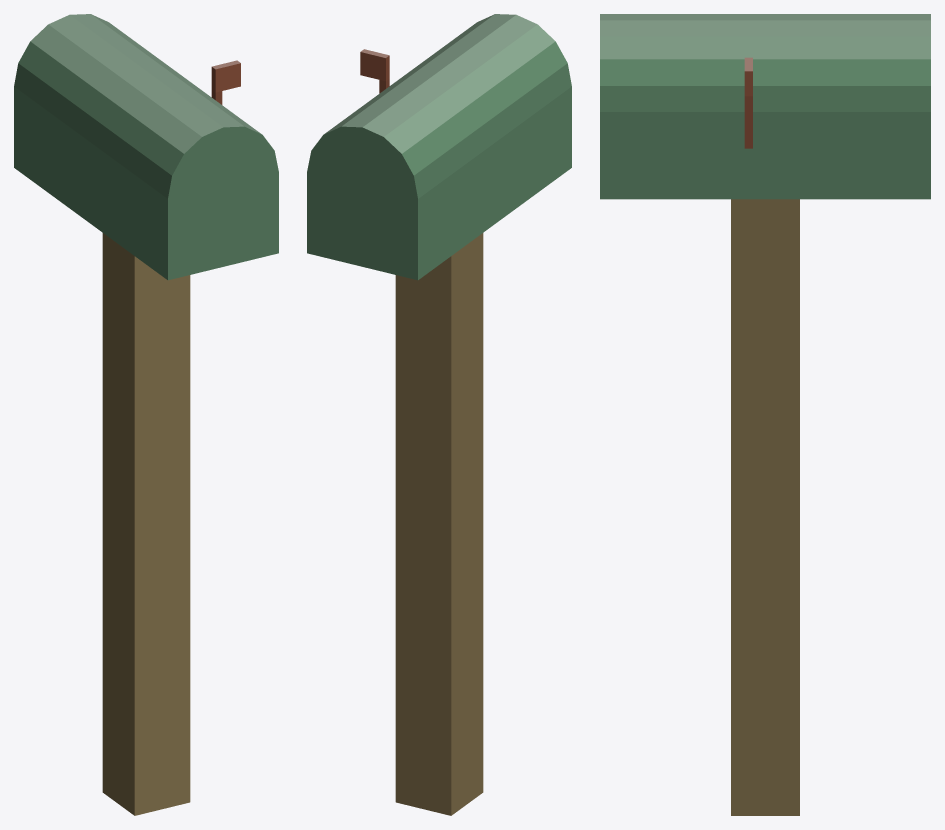
File: mailbox.glb
3 renders of one model, left to right at view 1: azimuth 30°, elevation 25°; view 2: azimuth 150°, elevation 25°; view 3: azimuth 270°, elevation 25°, orthographic. The views are drawn at different scales.
Parts seen in each view (by area): view 1: mailbox; view 2: mailbox; view 3: mailbox.
Boxes of the visible parts, <box> form: mailbox: <box>14,14,278,815</box>; mailbox: <box>307,14,571,815</box>; mailbox: <box>600,14,930,815</box>.
Size of the model in its own units: 0.253 by 1.25 by 0.48.
